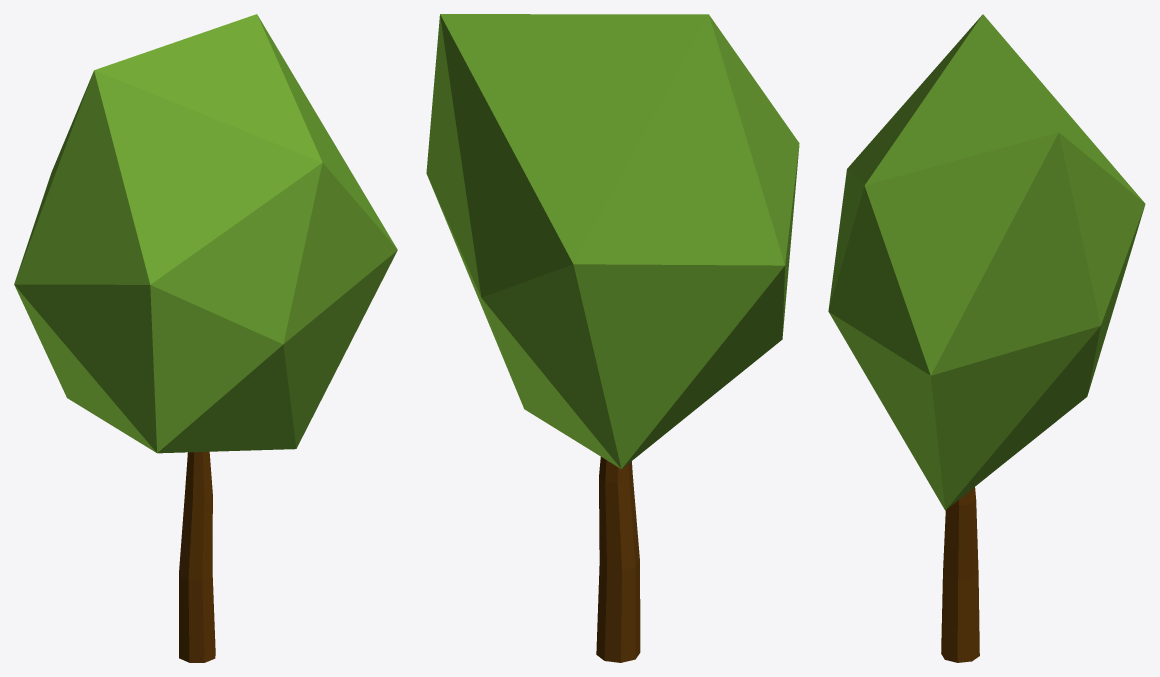
File: Tree12.fbx
3 renders of one model, left to right at view 1: azimuth 30°, elevation 25°; view 2: azimuth 150°, elevation 25°; view 3: azimuth 270°, elevation 25°, orthographic. The views are drawn at different scales.
Parts seen in each view (by area): view 1: Tree12; view 2: Tree12; view 3: Tree12.
Boxes of the visible parts, box(x1,y1,x2,y2) form: Tree12: box(14, 14, 397, 662); Tree12: box(426, 14, 799, 662); Tree12: box(828, 14, 1145, 662).
Bounding box in the file's own units: 178 × 291 × 140.
